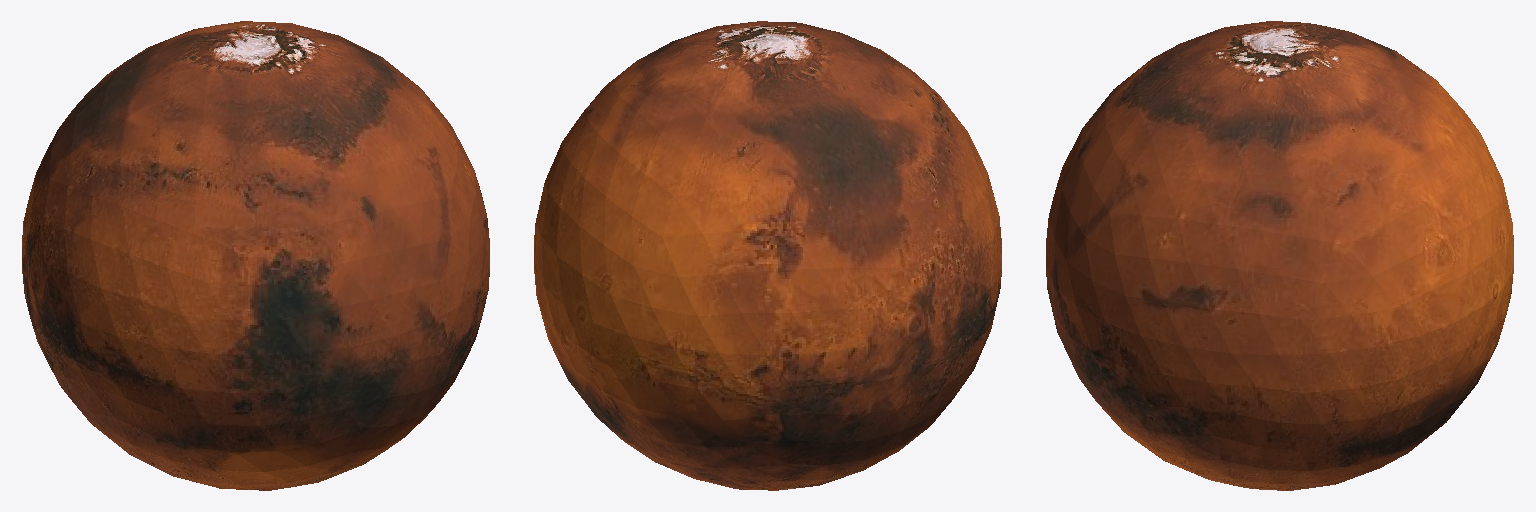
3 renders of one model, left to right at view 1: azimuth 30°, elevation 25°; view 2: azimuth 150°, elevation 25°; view 3: azimuth 270°, elevation 25°, orthographic.
Size of the model in its own units: 2 by 2 by 1.99.
Materials: 1 (1 with a texture image).